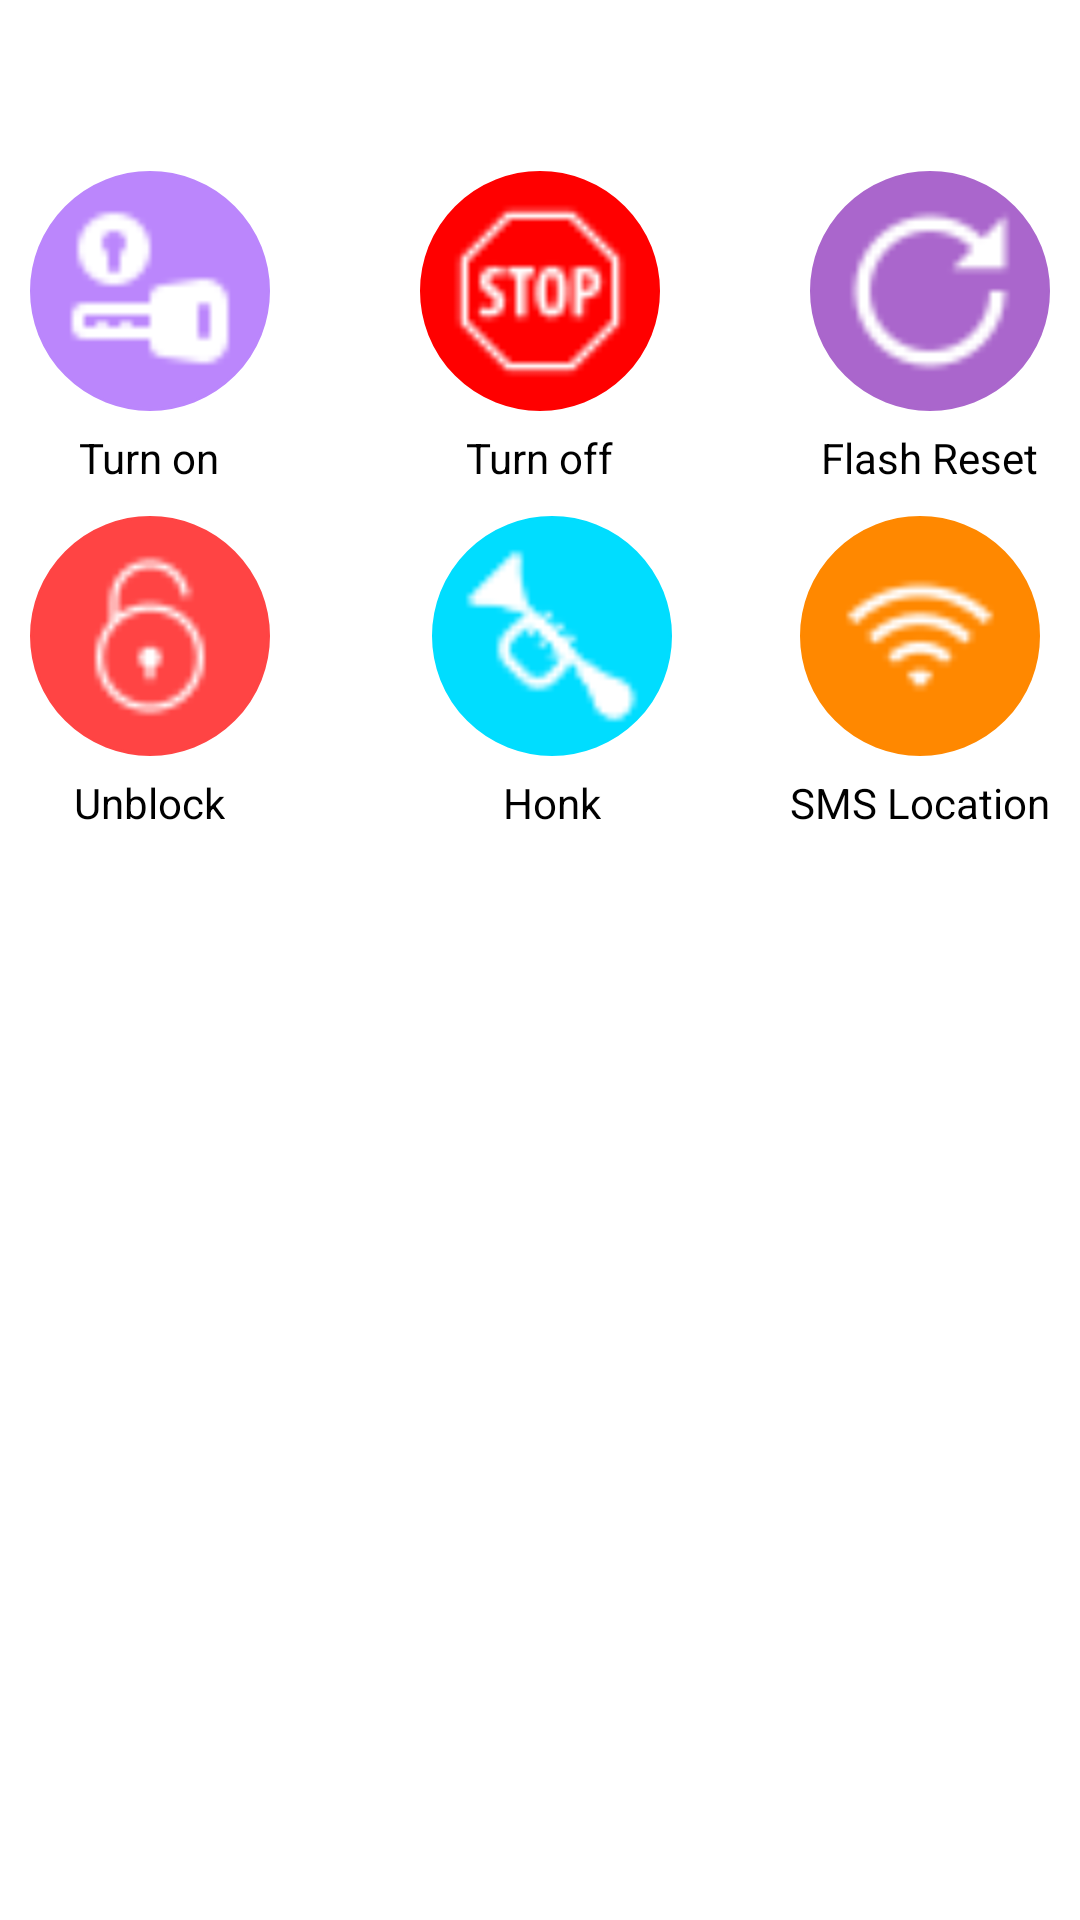

Icons on this 1080w x 1920h Android screen, each with its box as (x1, y1, x2, y2):
stop: (420, 171, 660, 411)
wifi: (800, 516, 1040, 756)
